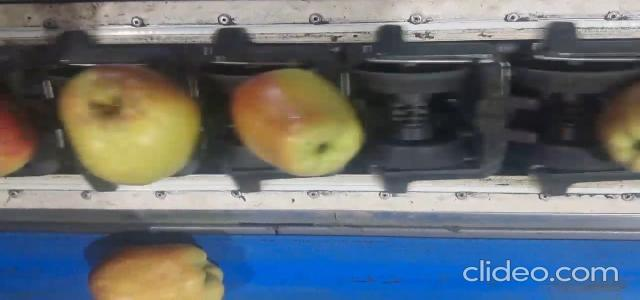apple: (58, 67, 201, 184), (232, 69, 364, 176)
